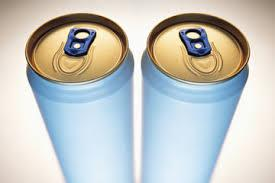Aluminum can: (138, 16, 264, 183), (24, 11, 139, 183)
